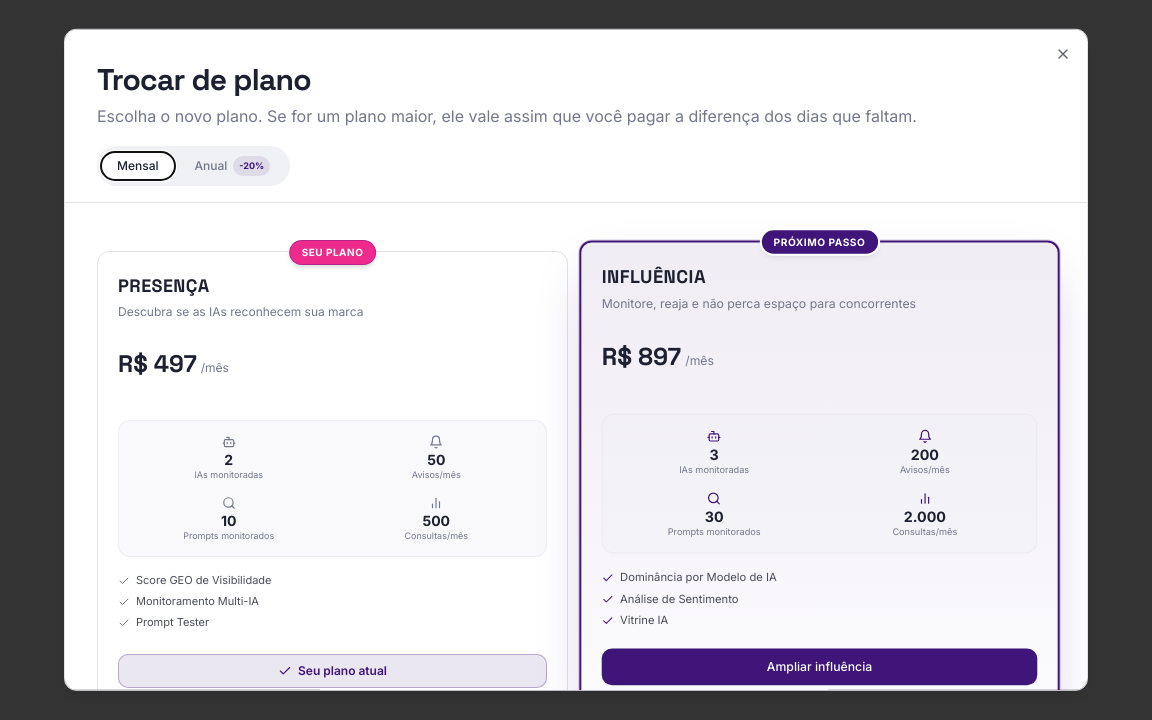
it: pending_payment → diálogo de confirmação › (a) Pagar depois fecha sem abrir nada
This screenshot has width=1152, height=720.
Step 1. Click the button "Ampliar influência" → x=819, y=666, box [602,648,1037,685]
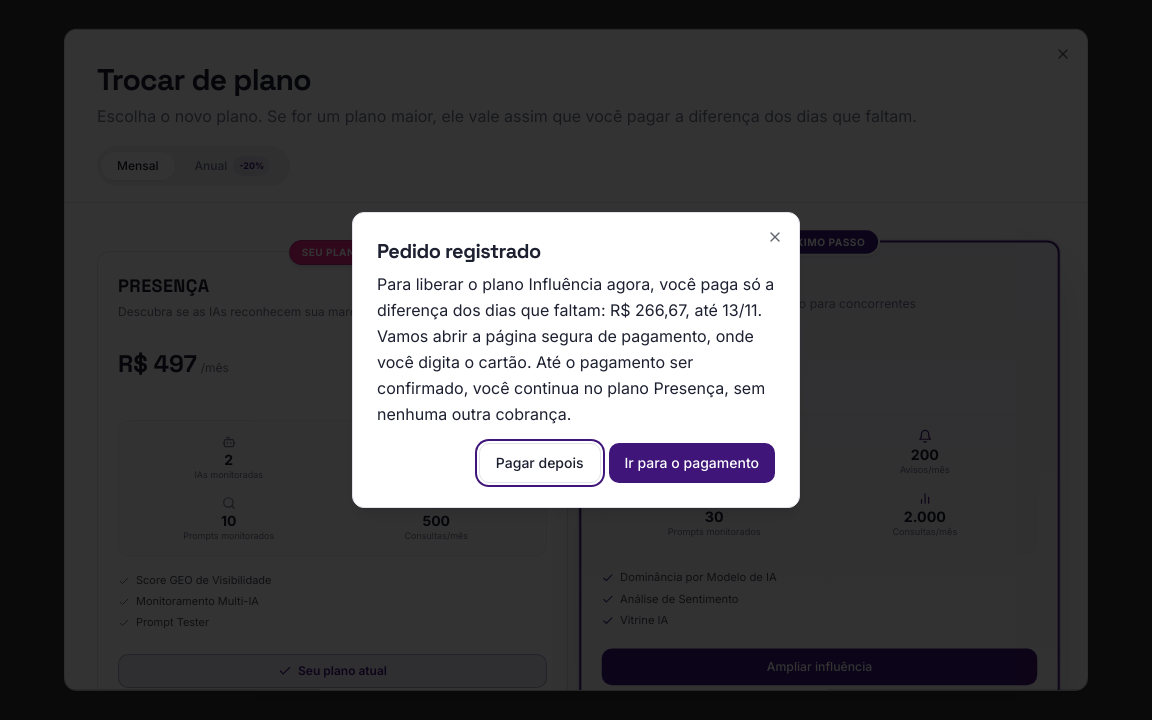
Step 2. Click the button "Pagar depois" → x=540, y=463, box [479,443,600,483]
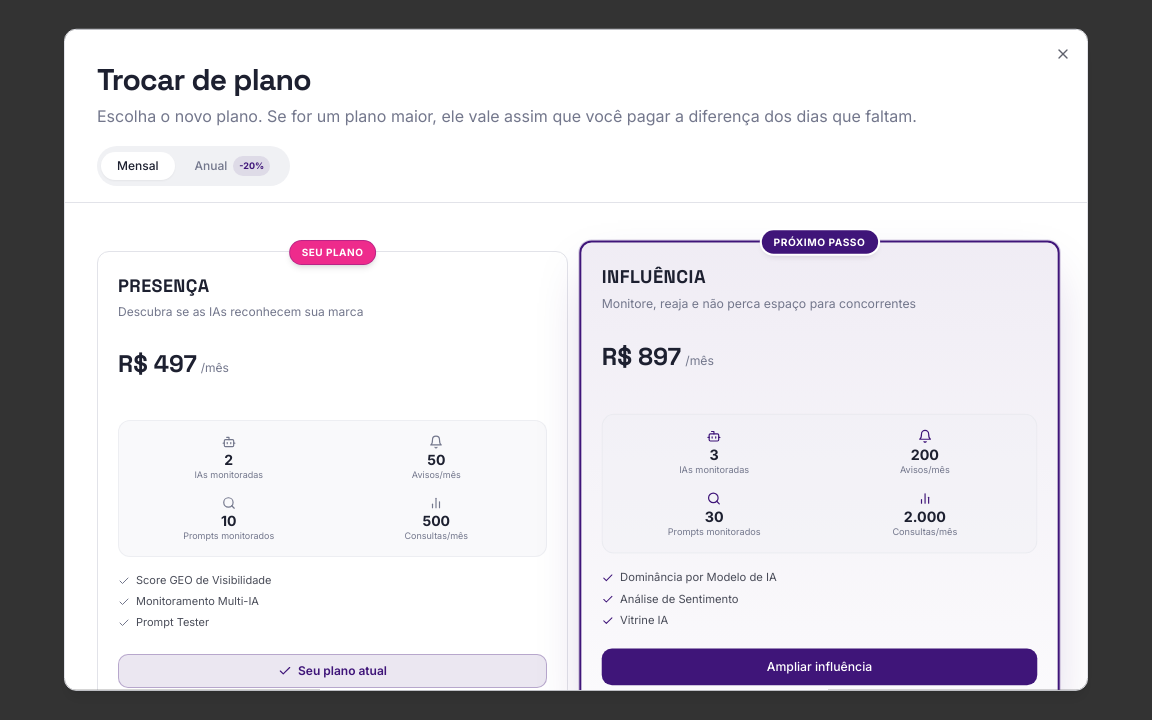
Expected: the heading "Pedido registrado" is gone
